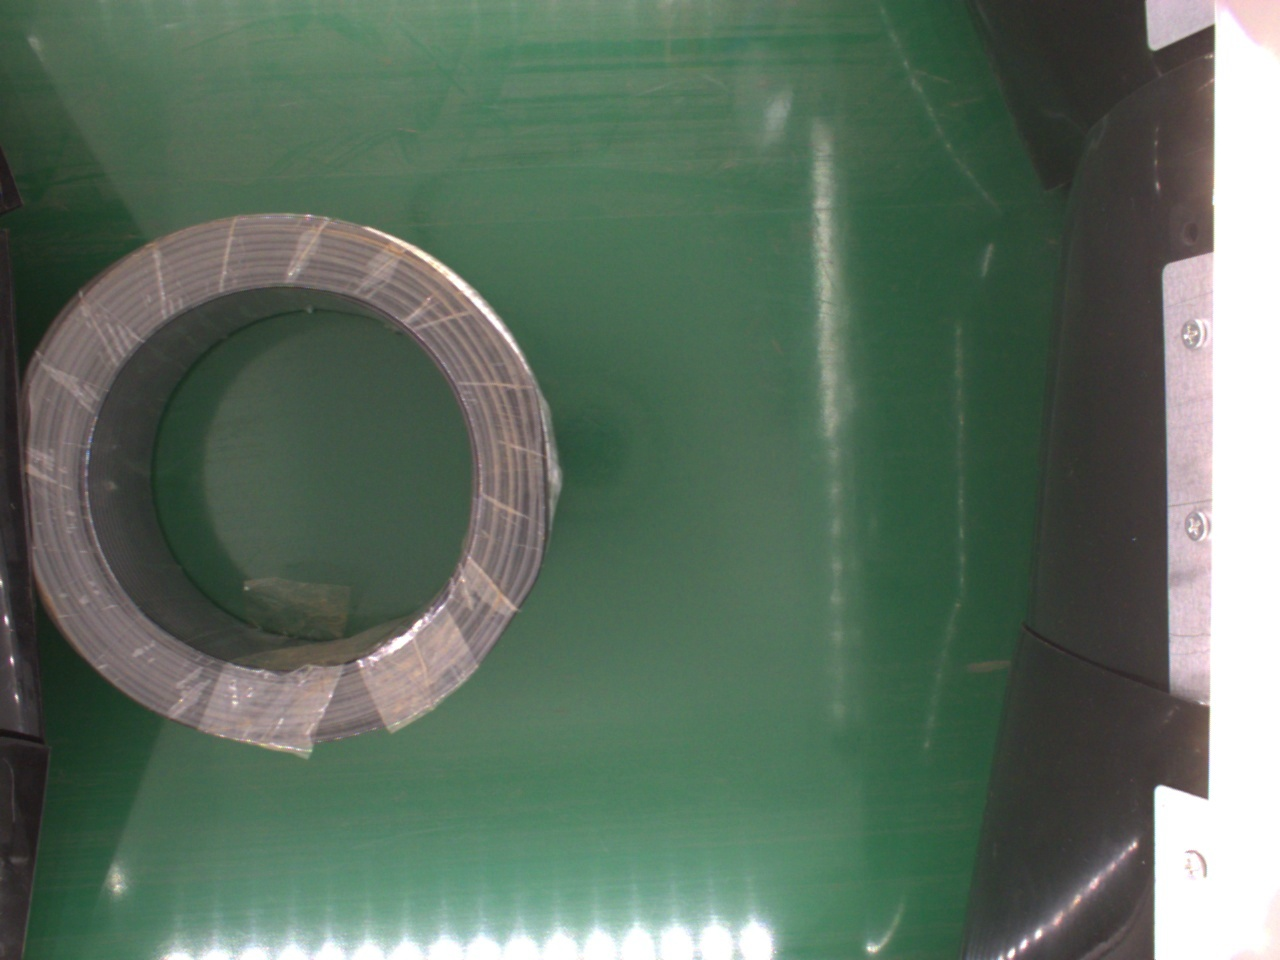black: (24, 210, 555, 745)
